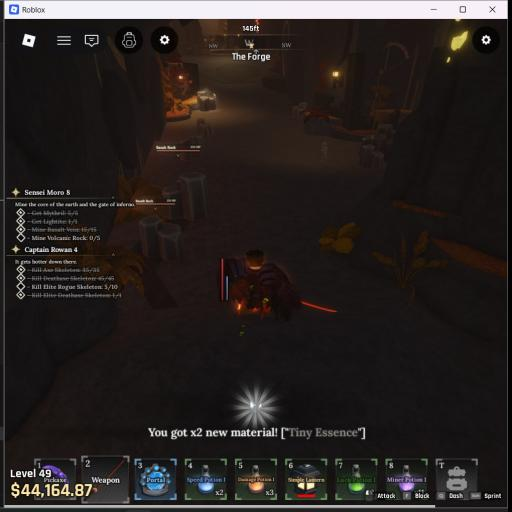player: (229, 250, 302, 321)
rock: (163, 172, 209, 220), (140, 216, 182, 260), (369, 124, 393, 152), (178, 135, 203, 161), (359, 144, 383, 170), (198, 91, 215, 111), (197, 119, 213, 136), (292, 102, 307, 118)
